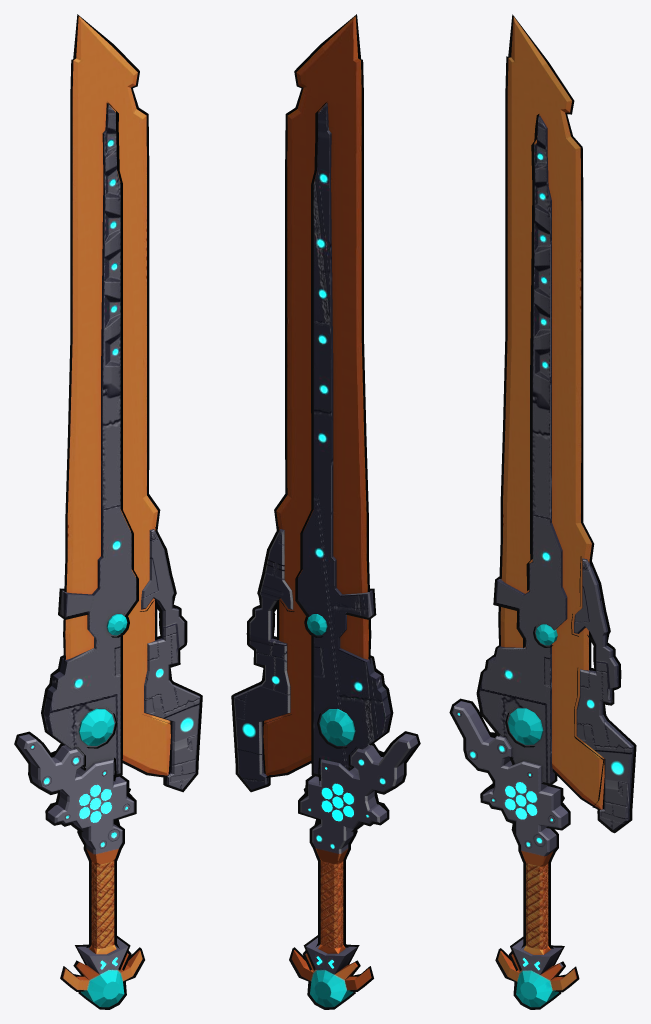
File: 3bc83fd8-e996-4cc7-a4f5-e57a2ad33aac.glb
3 renders of one model, left to right at view 1: azimuth 30°, elevation 25°; view 2: azimuth 150°, elevation 25°; view 3: azimuth 330°, elevation 25°, orthographic.
Visible parts, largest first — view 1: animeSword; view 2: animeSword; view 3: animeSword.
Part boxes in pixels (x1=…): animeSword: x1=14, y1=14, x2=202, y2=1009; animeSword: x1=231, y1=14, x2=420, y2=1009; animeSword: x1=449, y1=14, x2=636, y2=1009.
Size of what is drawn, in the model's own units: 0.3023 by 1.57 by 0.0579.
3 materials, 2 textured.
